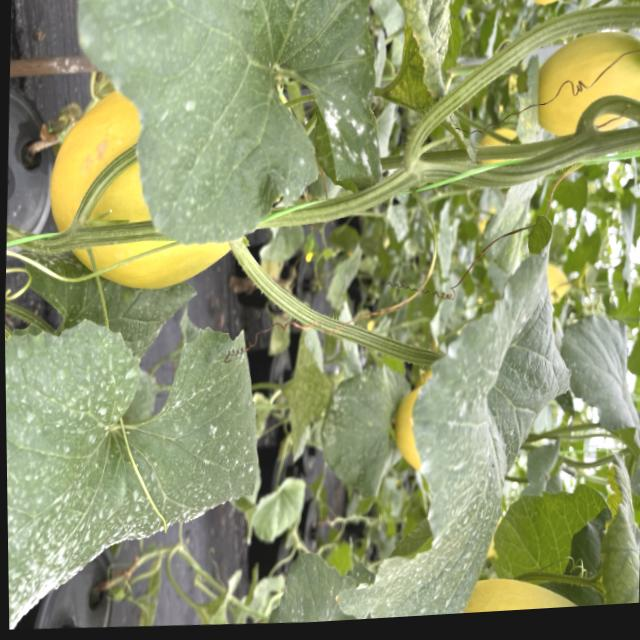downy mildew: (378, 0, 484, 171)
healthy: (555, 307, 640, 505)
powdery mildew: (325, 202, 579, 621), (58, 0, 395, 262), (5, 307, 271, 638)
